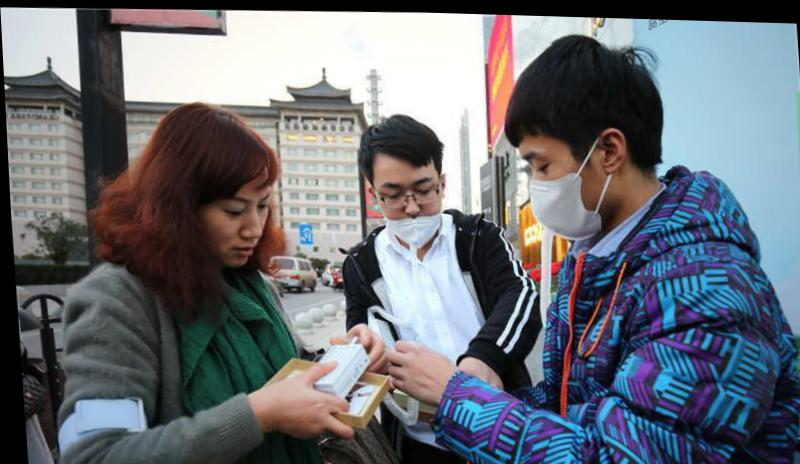NONE: (202, 182, 275, 270)
OK: (520, 133, 604, 238)
WRONG: (377, 165, 444, 244)
